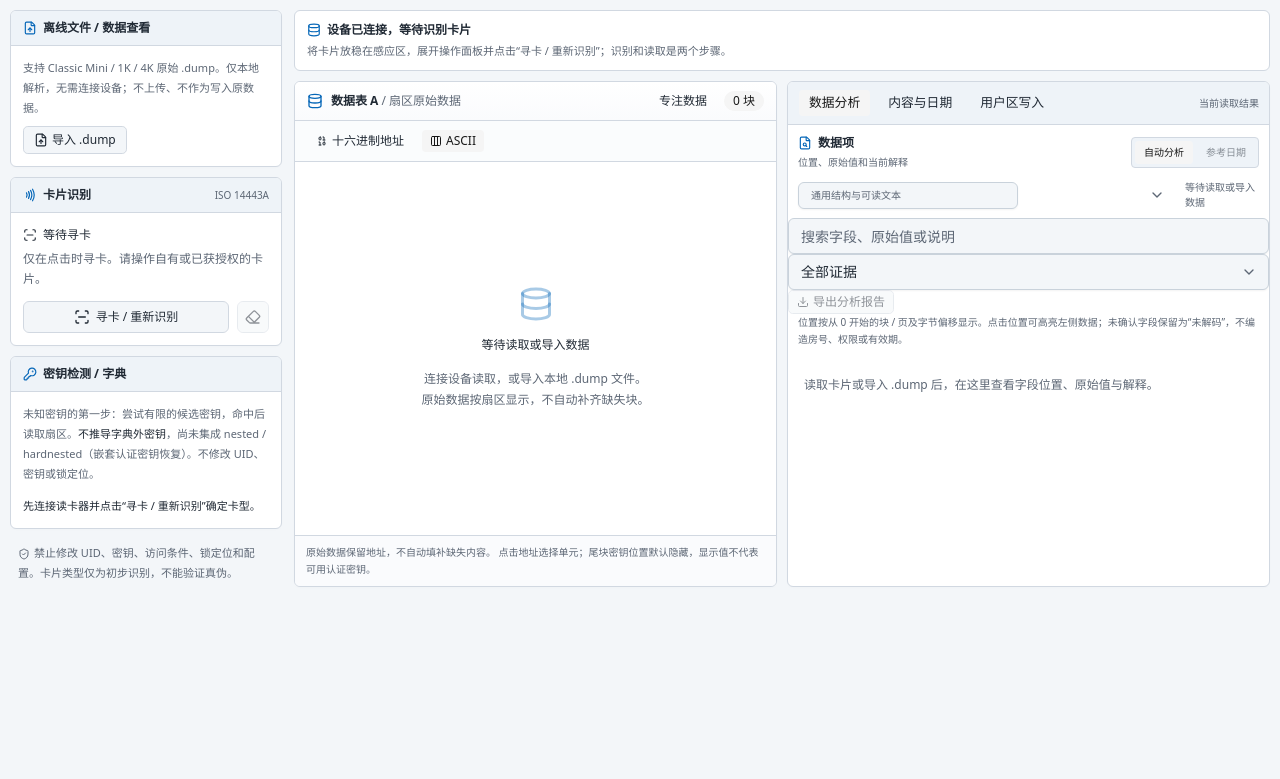
Scenario: card panel desktop UI › rejects a range exceeding capacity before contacting the device
This screenshot has width=1280, height=779.
Click the button "寻卡 / 重新识别" at {"x": 126, "y": 317}, box [23, 301, 229, 333]
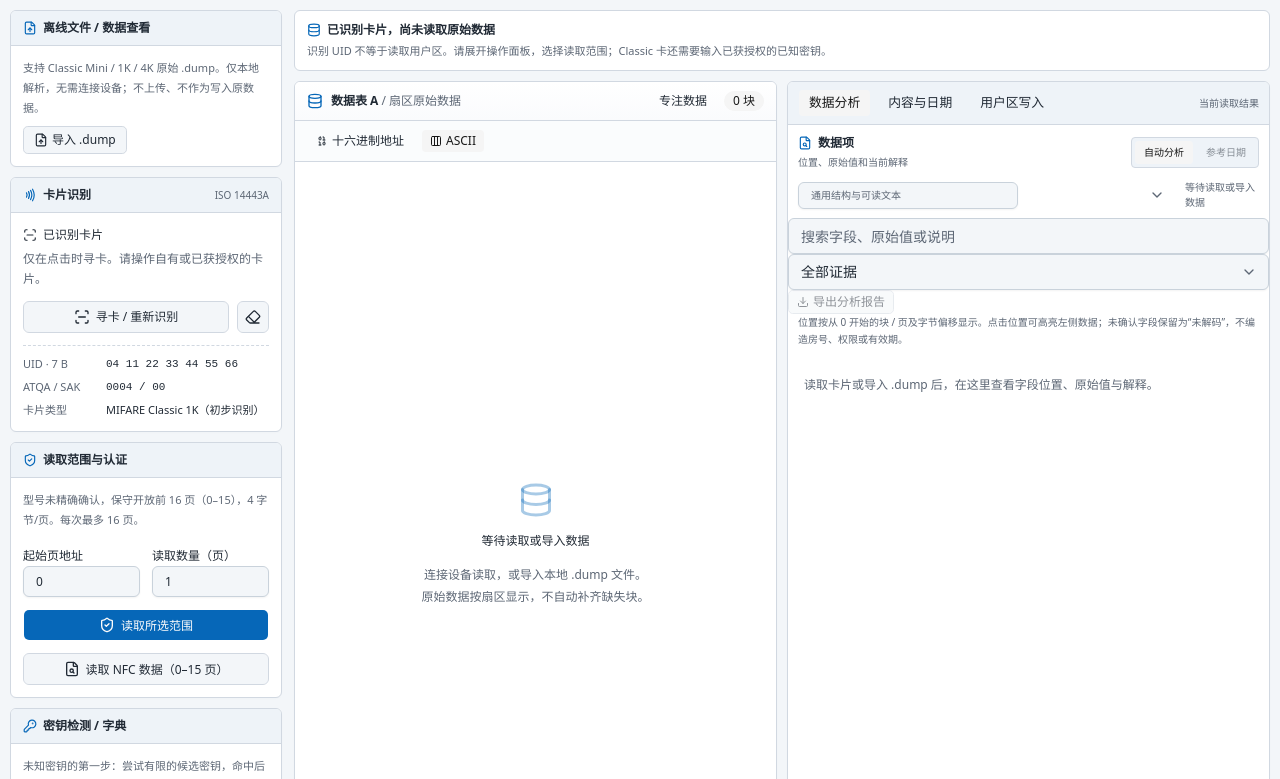
Replace the text in the number field labelled "起始页地址" with "15" at {"x": 82, "y": 582}, box [23, 566, 140, 597]
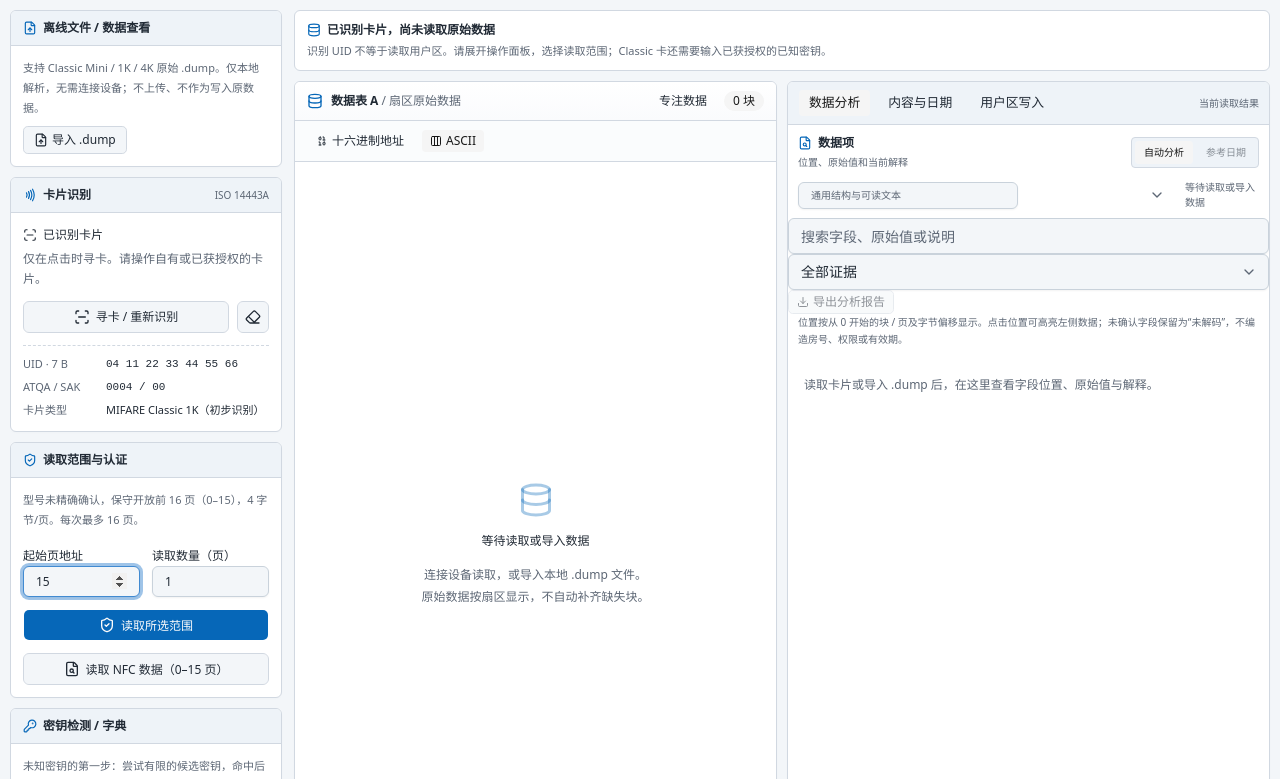
Replace the text in the number field labelled "读取数量（页）" with "2" at {"x": 210, "y": 582}, box [152, 566, 269, 597]
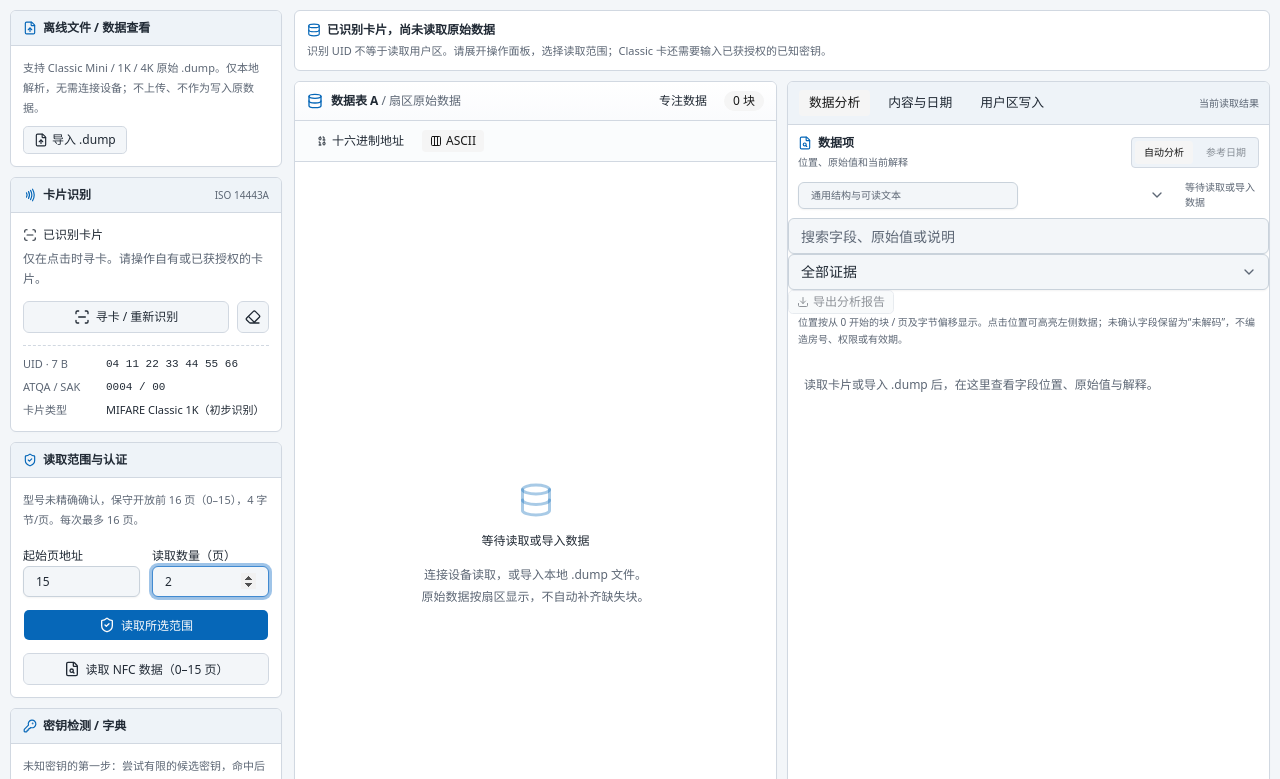
Click the button "读取所选范围" at {"x": 146, "y": 625}, box [23, 609, 269, 641]
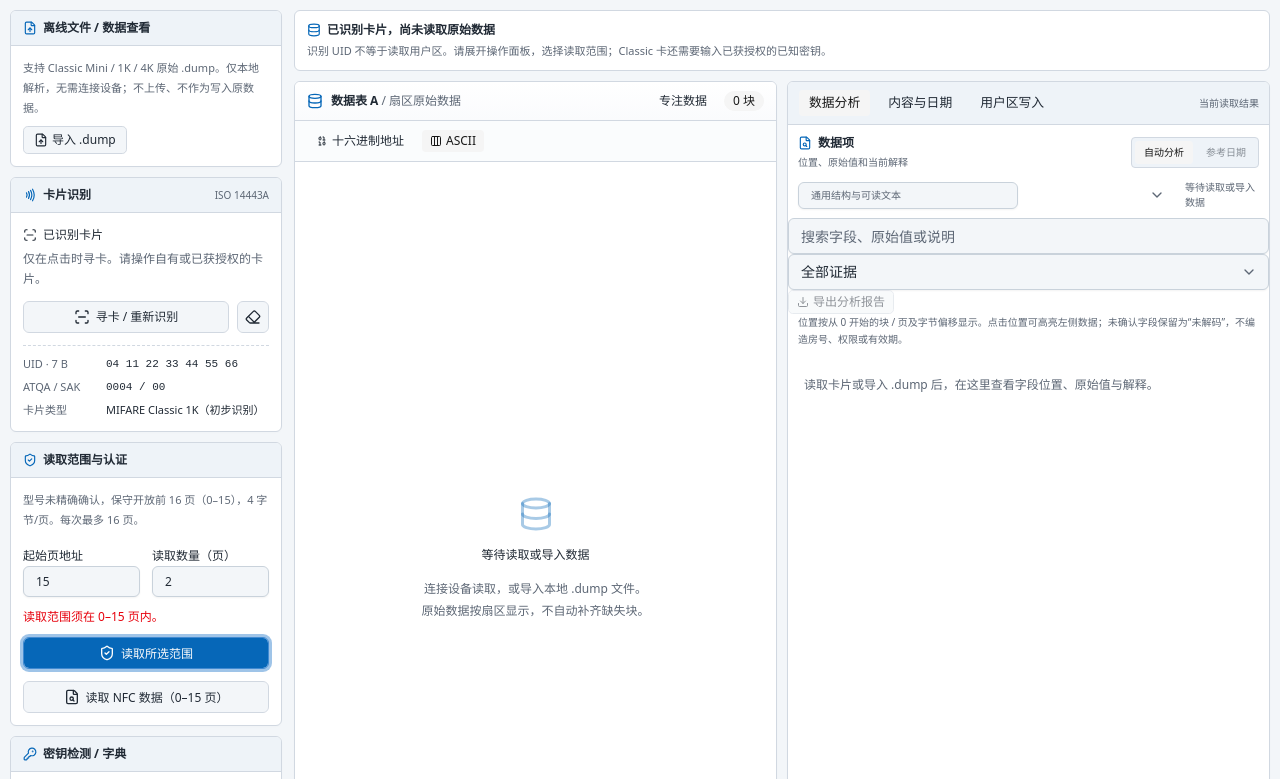
Now the message "读取范围须在 0–15 页内。" is shown, box [23, 608, 164, 625]
